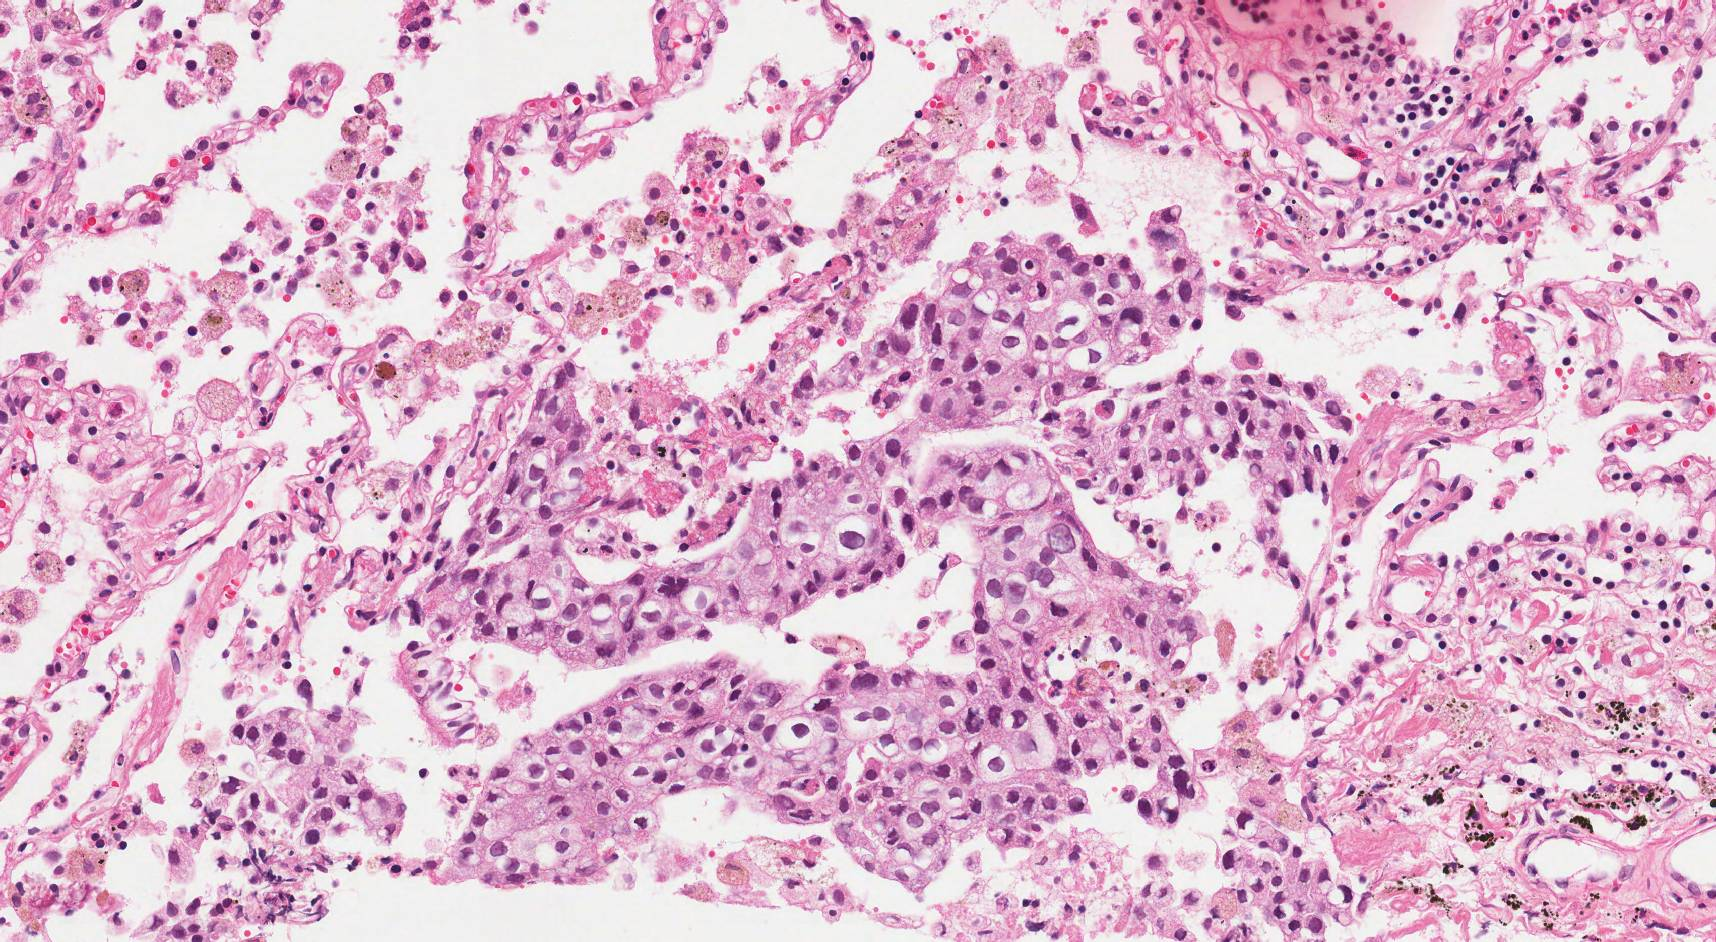stas: (403, 209, 1355, 892), (224, 701, 405, 847), (1214, 807, 1357, 942)
